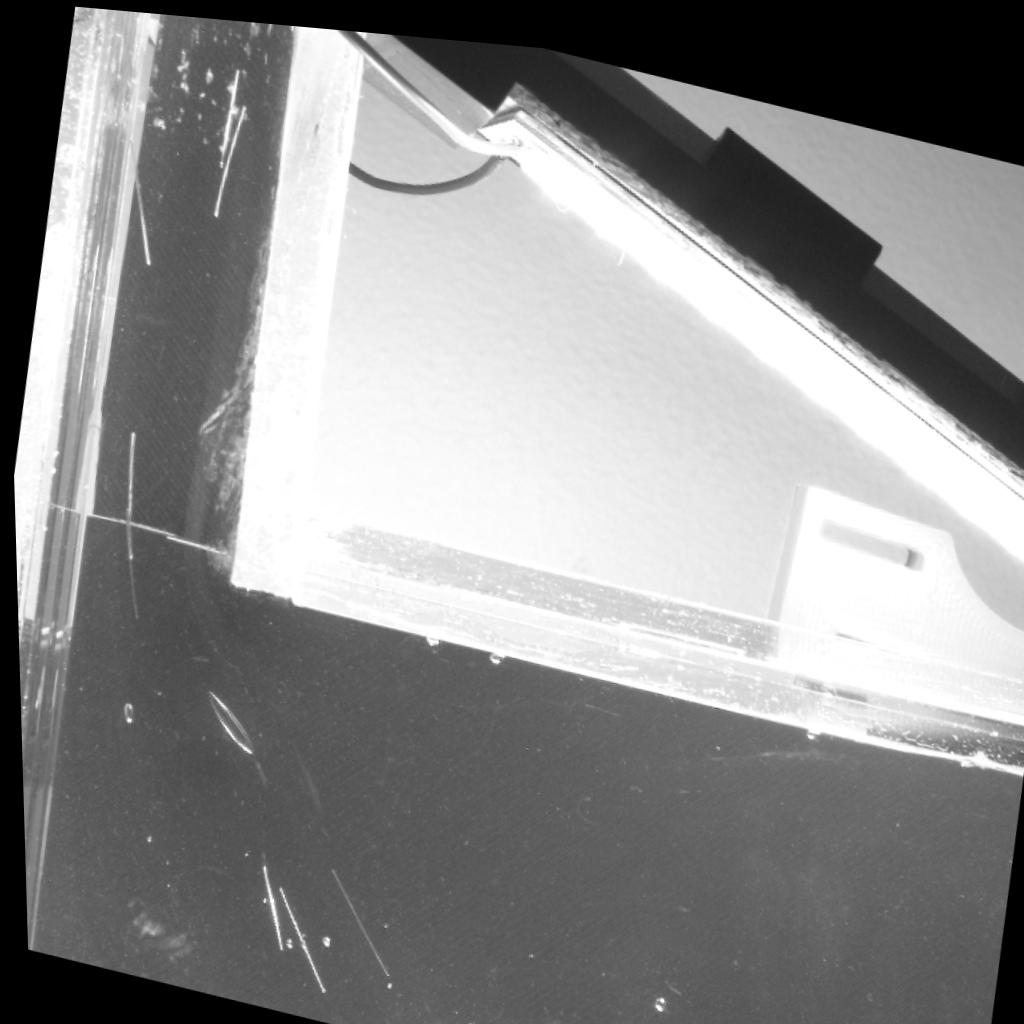Fiber: (327, 855, 384, 967), (271, 880, 319, 982), (207, 97, 248, 214), (126, 119, 150, 264), (217, 57, 239, 164), (253, 853, 278, 942), (120, 502, 135, 616), (123, 426, 136, 556)
